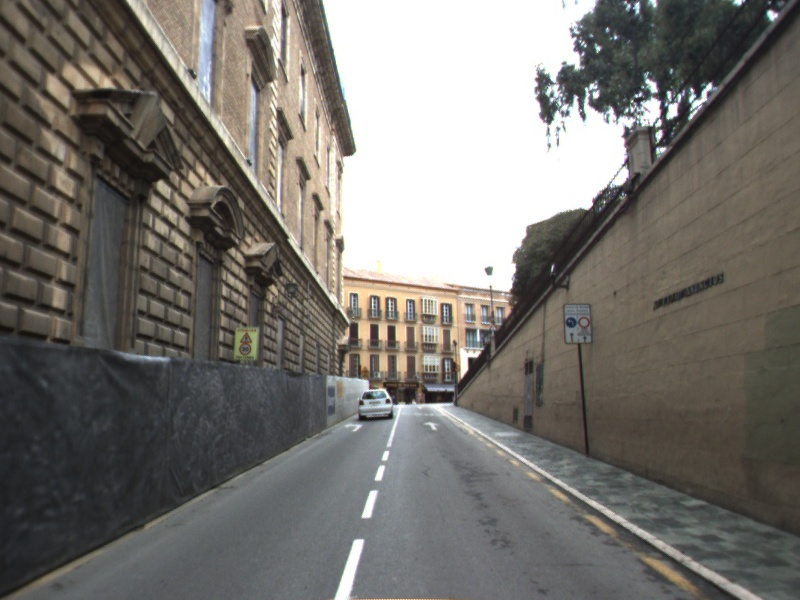LEFT: (342, 421, 365, 433)
STRAIGHT: (421, 419, 442, 432)
